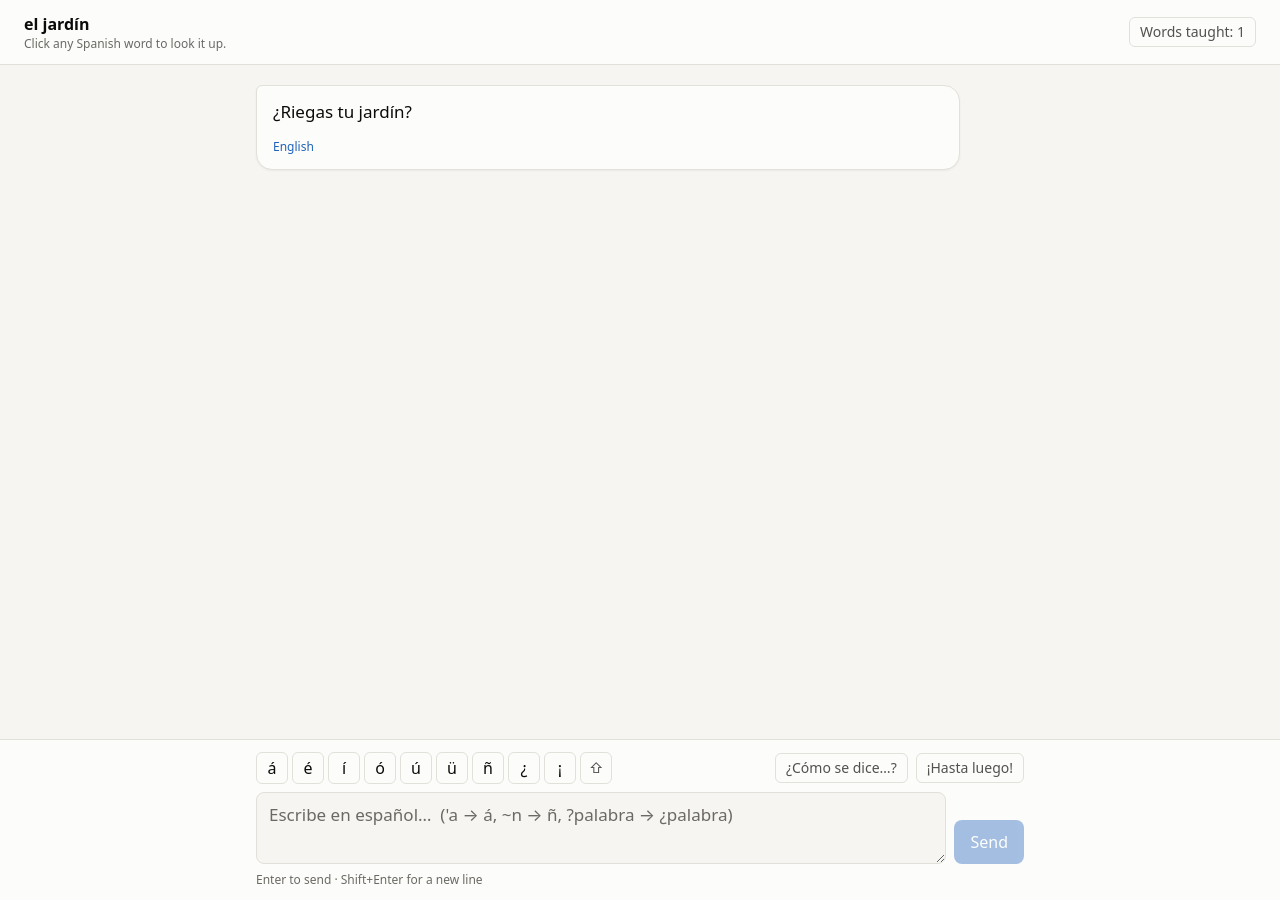
ChatView › pre-fills a "¿cómo se dice?" request with the cursor between the quotes
This screenshot has width=1280, height=900.
Click the button "¿Cómo se dice…?".
click(841, 768)  # box [775,753,908,783]
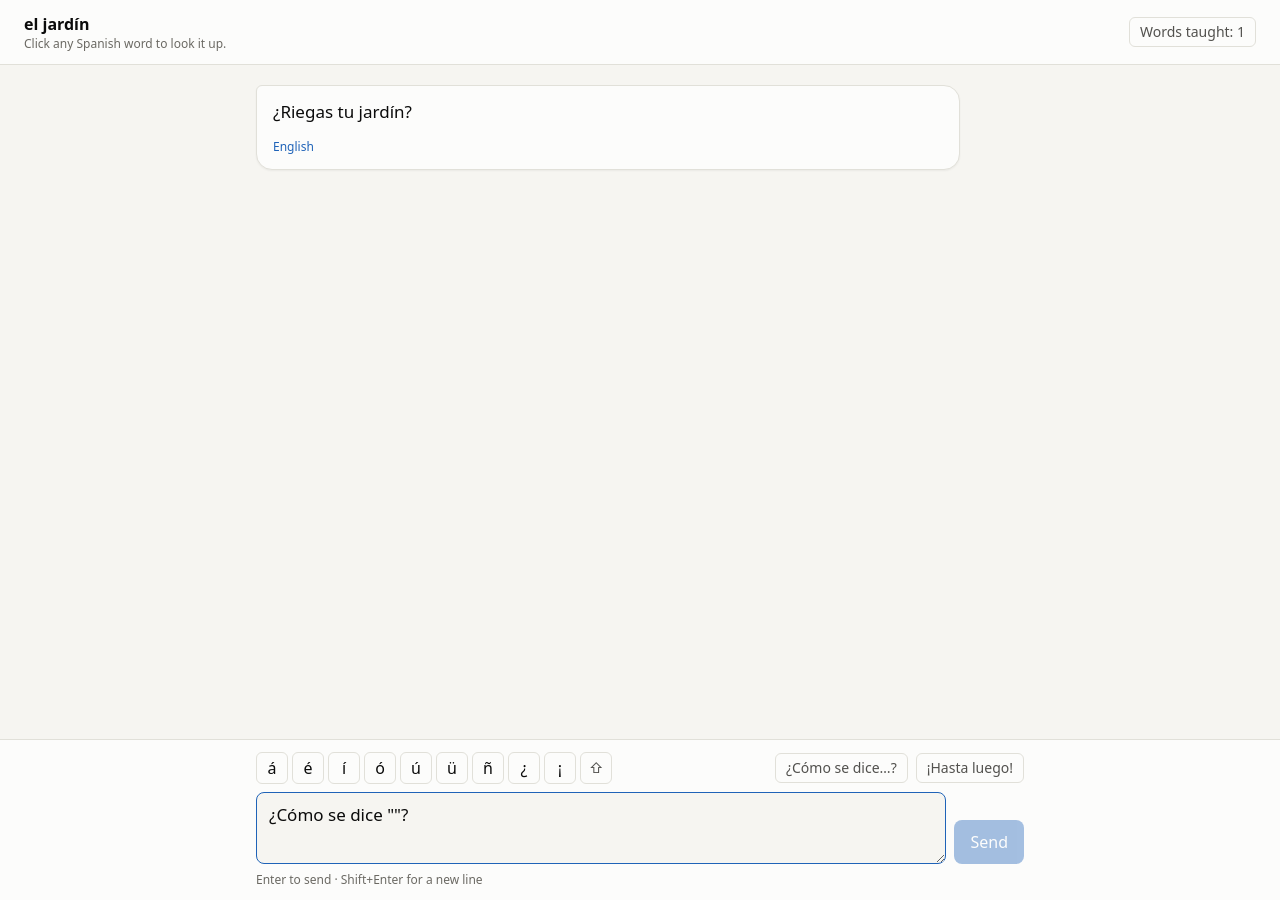
Expected: the button "Send" is disabled, [954,820,1024,864]
Result: the text box named "Your message" holds "¿Cómo se dice \"\"?" at [256,792,946,864]
Type keys "dog"
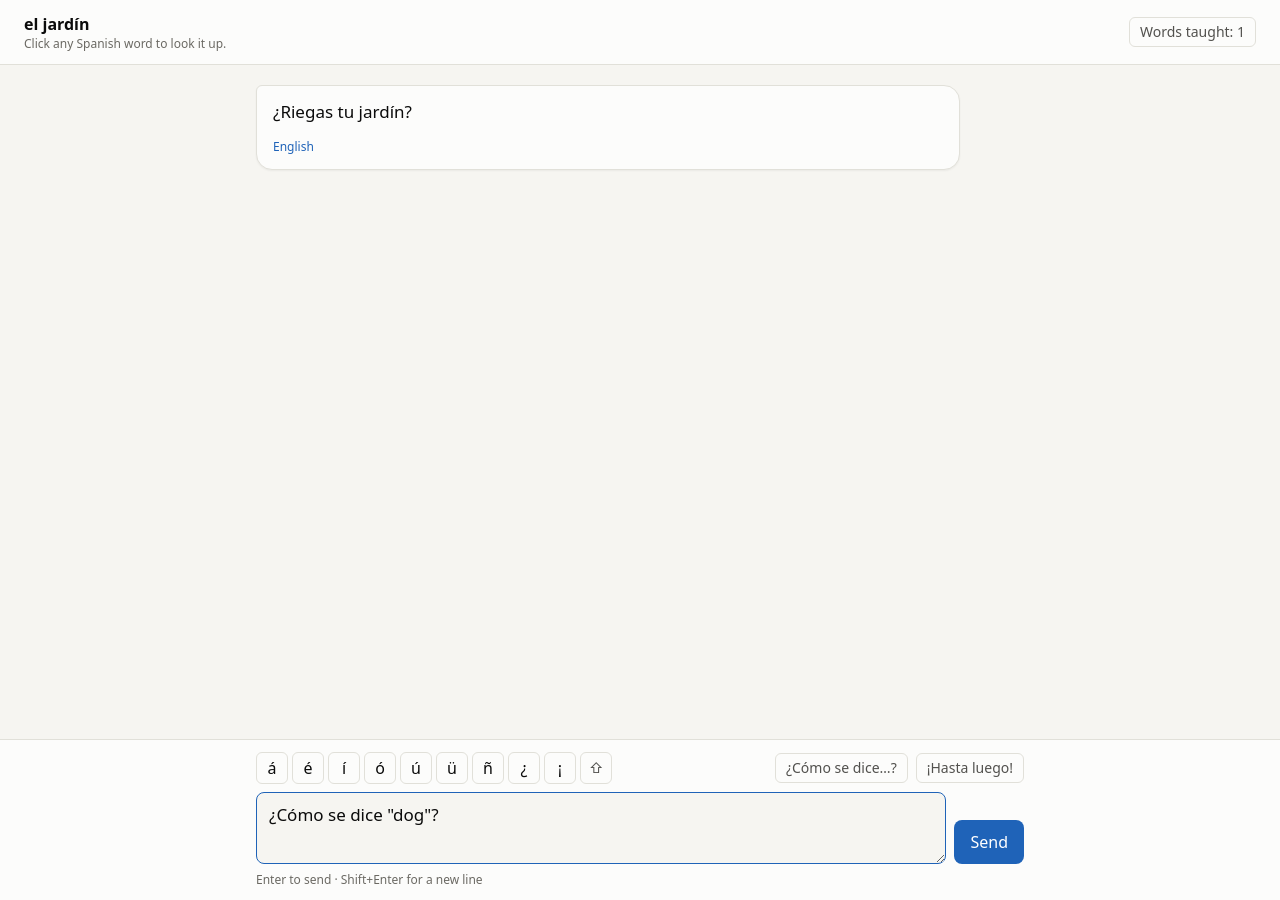
Result: the text box named "Your message" holds "¿Cómo se dice \"dog\"?" at [256,792,946,864]
Result: the button "Send" is enabled at [954,820,1024,864]
